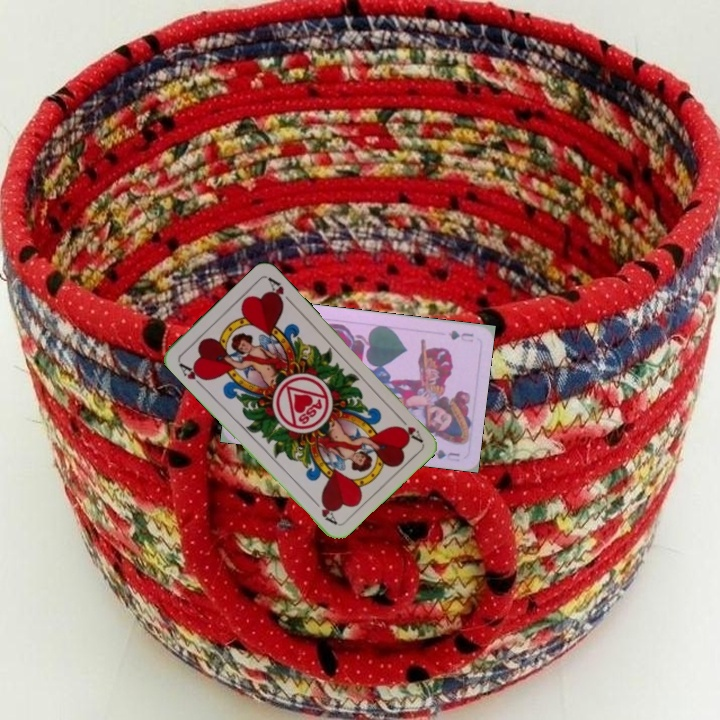GU: (445, 326, 476, 345)
HA: (174, 358, 209, 391), (393, 411, 425, 445)
